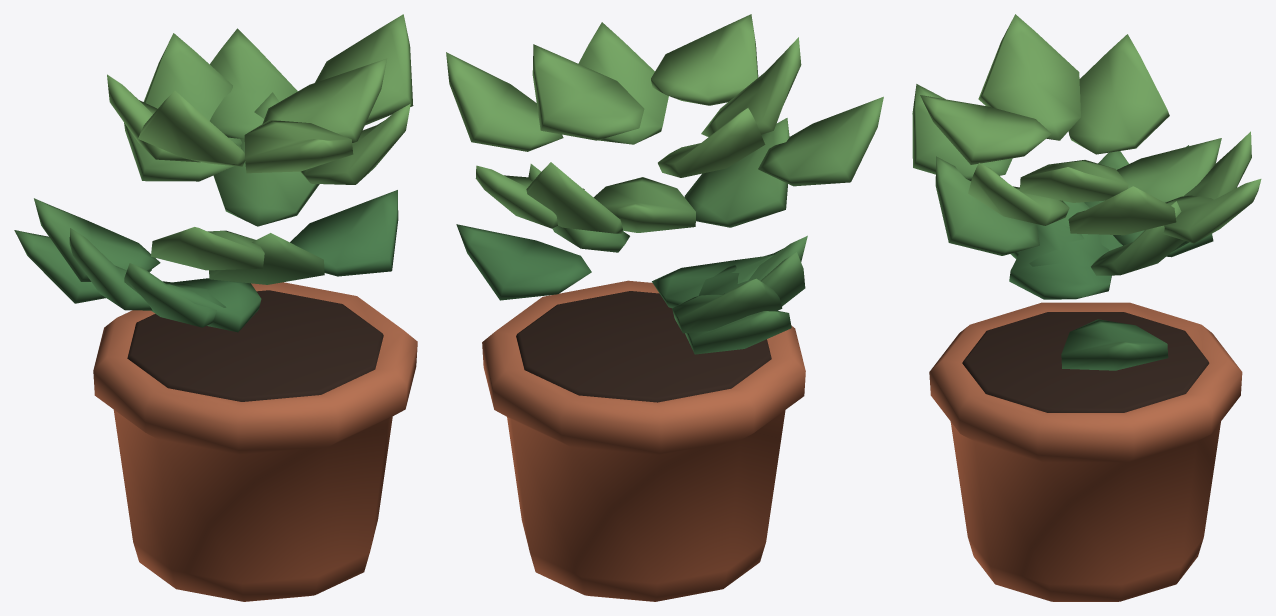
The model's file is basil.glb.
3 renders of one model, left to right at view 1: azimuth 30°, elevation 25°; view 2: azimuth 150°, elevation 25°; view 3: azimuth 270°, elevation 25°, orthographic. The views are drawn at different scales.
Parts seen in each view (by area): view 1: basil; view 2: basil; view 3: basil.
Part boxes in pixels (x1,y1,x2,y2): basil: (14, 14, 417, 601); basil: (446, 14, 883, 601); basil: (912, 14, 1261, 601).
Size of the model in its own units: 0.1989 by 0.2758 by 0.1773.
